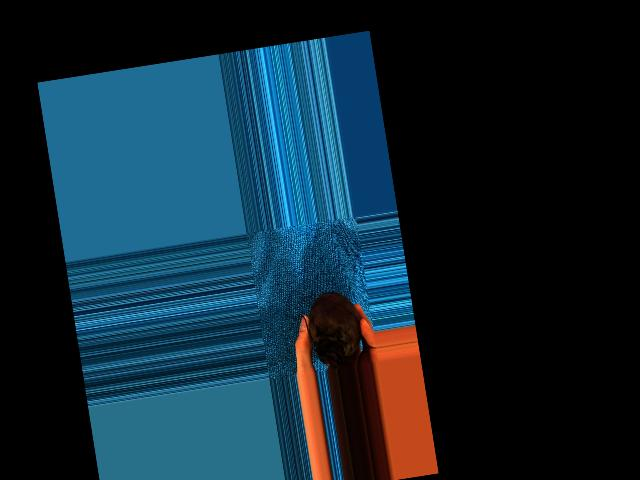beet: (297, 288, 366, 372)
